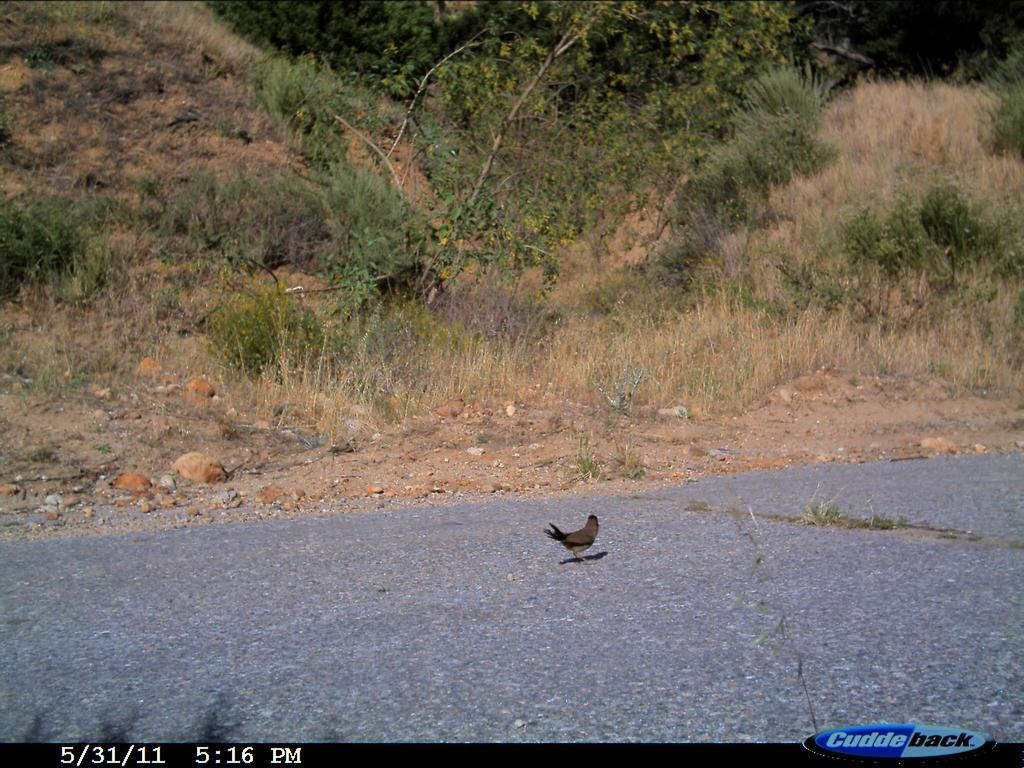bird: (524, 501, 629, 583)
